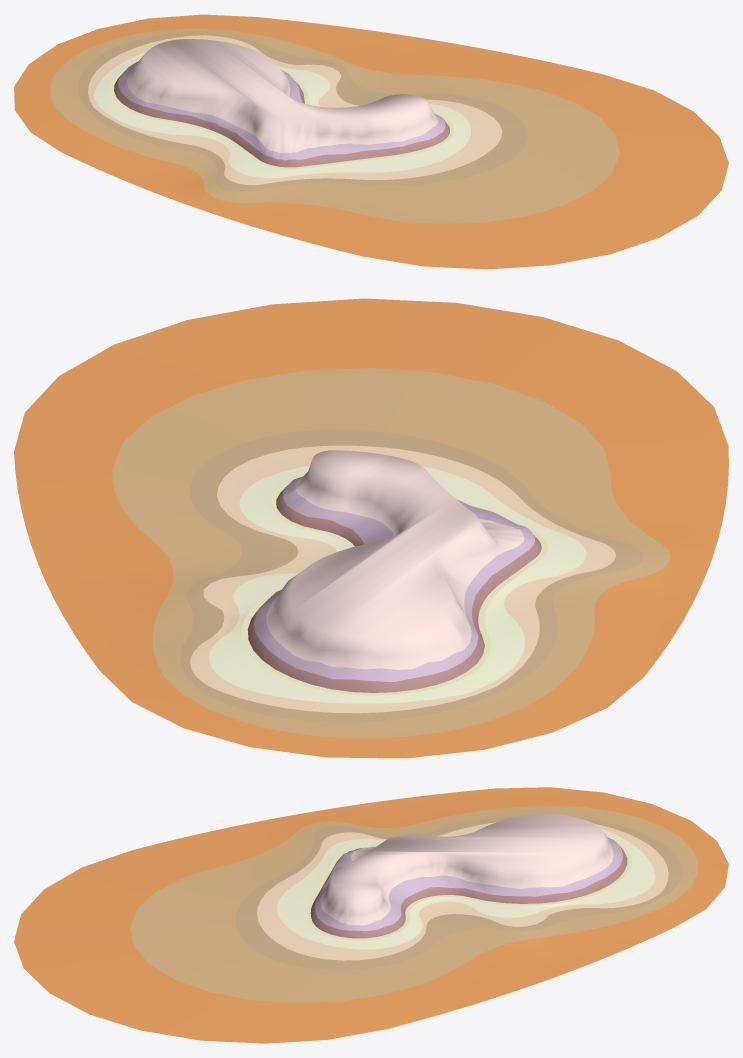
File: Island TEST.fbx
3 views of the same model, one above another, from view 1: azimuth 30°, elevation 25°; view 2: azimuth 150°, elevation 25°; view 3: azimuth 270°, elevation 25° (orthographic). The views are drawn at different scales.
Parts seen in each view (by area): view 1: _(Loose Entity), _G-Object (Loose Mesh); view 2: _(Loose Entity), _G-Object (Loose Mesh); view 3: _(Loose Entity), _G-Object (Loose Mesh).
Part boxes in pixels (x1,y1,x2,y2): _(Loose Entity): (14,14,728,269); _G-Object (Loose Mesh): (109,67,454,169); _(Loose Entity): (14,298,728,758); _G-Object (Loose Mesh): (241,481,547,695); _(Loose Entity): (14,787,728,1043); _G-Object (Loose Mesh): (306,837,631,940).
Size of the model in its own units: 269176 by 16500 by 319561.
